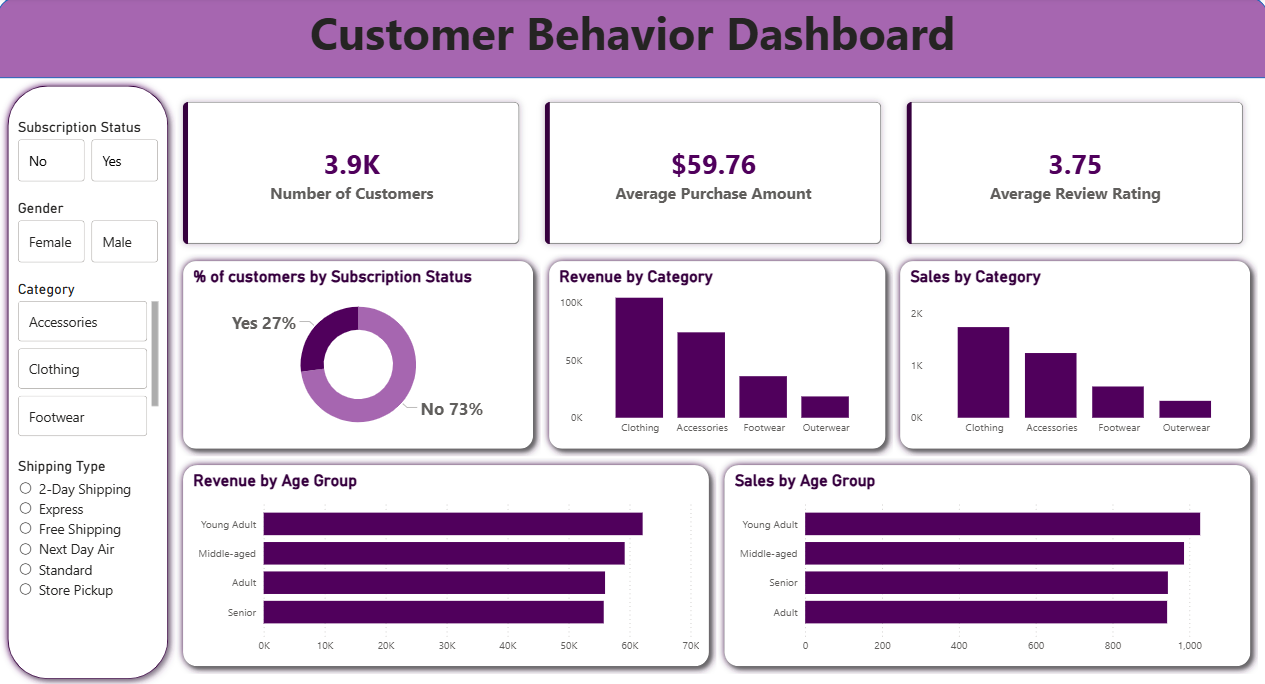

The page's visual inventory and layout, read from the dashboard file:
{"tool":"powerbi","page":{"name":"Page 1","canvas":[1500,820],"ordinal":0},"visuals":[{"type":"cardVisual","fields":{"Data":["public customer.Number of Customers","public customer.Average Purchase Amount","public customer.Average Review Rating"]},"box":[188,96,1312,224],"z":0},{"type":"shape","box":[-4,0,1504,96],"z":1000},{"type":"textbox","box":[-4,0,1504,96],"z":2000},{"type":"shape","box":[208,304,432,240],"z":3000},{"type":"donutChart","title":"% of customers by Subscription Status","fields":{"Category":["public customer.subscription_status"],"Y":["CountNonNull(public customer.customer_id)"]},"box":[224,320,400,208],"z":4000},{"type":"shape","box":[640,304,416,240],"z":5000},{"type":"shape","box":[1056,304,432,240],"z":6000},{"type":"clusteredColumnChart","title":"Revenue by Category","fields":{"Y":["Sum(public customer.purchase_amount)"],"Category":["public customer.category"]},"box":[656,320,384,208],"z":7000},{"type":"clusteredColumnChart","title":"Sales by Category","fields":{"Category":["public customer.category"],"Y":["CountNonNull(public customer.customer_id)"]},"box":[1072,320,400,208],"z":8000},{"type":"shape","box":[0,96,208,720],"z":8001},{"type":"advancedSlicerVisual","fields":{"Values":["public customer.subscription_status"]},"box":[16,144,176,80],"z":8002},{"type":"advancedSlicerVisual","title":"Gender","fields":{"Values":["public customer.gender"]},"box":[16,240,176,80],"z":8003},{"type":"advancedSlicerVisual","fields":{"Values":["public customer.category"]},"box":[16,336,176,192],"z":8004},{"type":"listSlicer","fields":{"Values":["public customer.shipping_type"]},"box":[16,544,176,224],"z":8005},{"type":"shape","box":[848,544,640,256],"z":8008},{"type":"clusteredBarChart","title":"Sales by Age Group","fields":{"Category":["public customer.age_group"],"Y":["CountNonNull(public customer.customer_id)"]},"box":[864,560,608,224],"z":8009},{"type":"shape","box":[208,544,640,256],"z":8010},{"type":"clusteredBarChart","title":"Revenue by Age Group","fields":{"Category":["public customer.age_group"],"Y":["Sum(public customer.purchase_amount)"]},"box":[224,560,608,224],"z":8011}]}

Visuals, with their boxes in screenshot pixels (x1, y1, x2, y2), scaled from the page's 1500x820 canvas onto the 1265x684 screenshot:
cardVisual - public customer.Number of Customers x public customer.Average Purchase Amount: [159,80,1264,267]
shape: [0,0,1264,80]
textbox: [0,0,1264,80]
shape: [175,254,540,454]
"% of customers by Subscription Status" donutChart: [189,267,526,440]
shape: [540,254,891,454]
shape: [891,254,1255,454]
"Revenue by Category" clusteredColumnChart: [553,267,877,440]
"Sales by Category" clusteredColumnChart: [904,267,1241,440]
shape: [0,80,175,681]
advancedSlicerVisual - public customer.subscription_status: [13,120,162,187]
"Gender" advancedSlicerVisual: [13,200,162,267]
advancedSlicerVisual - public customer.category: [13,280,162,440]
listSlicer - public customer.shipping_type: [13,454,162,641]
shape: [715,454,1255,667]
"Sales by Age Group" clusteredBarChart: [729,467,1241,654]
shape: [175,454,715,667]
"Revenue by Age Group" clusteredBarChart: [189,467,702,654]
